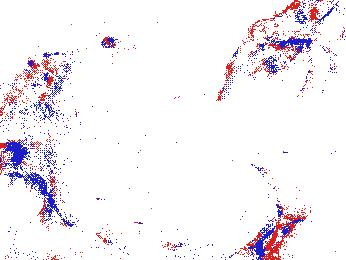X-ray fish: (1, 137, 62, 222)
glassfish: (224, 212, 296, 260)
siberian prawn: (216, 1, 341, 103), (1, 47, 71, 122)
